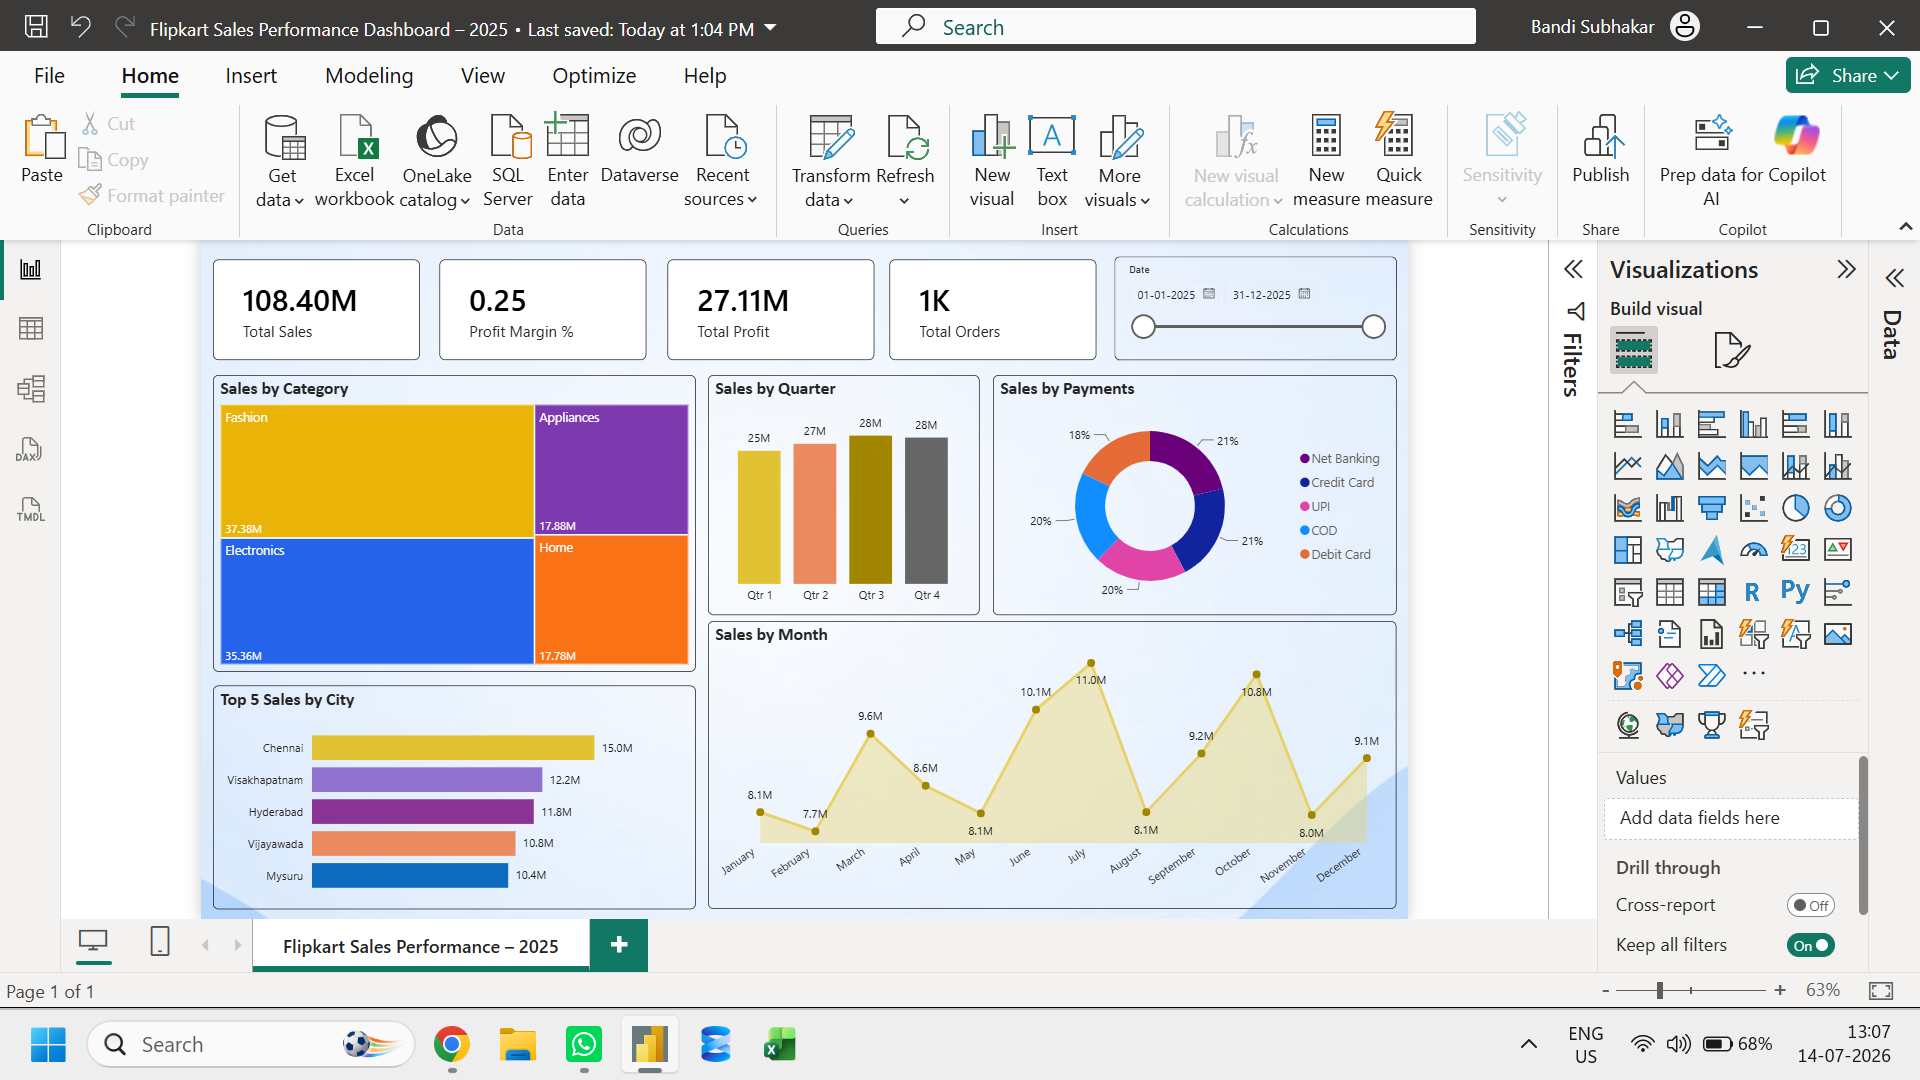

What the dashboard file says about the page in this screenshot:
{"tool":"powerbi","page":{"name":"Flipkart Sales Performance – 2025","canvas":[1280,720],"ordinal":0},"visuals":[{"type":"treemap","title":"Sales by Category","fields":{"Group":["Flipkart_2025_Sales.Category"],"Values":["Date Table.Total Sales"]},"box":[12.7,143.2,512.2,314.9],"z":5},{"type":"barChart","title":"Top 5 Sales by City","fields":{"Category":["Flipkart_2025_Sales.City"],"Y":["Date Table.Total Sales"]},"box":[12.7,472.4,512.2,237],"z":6},{"type":"areaChart","title":"Sales by Month","fields":{"Category":["Date Table.Date.Variation.Date Hierarchy.Month"],"Y":["Sum(Flipkart_2025_Sales.Sales)"]},"box":[537.6,404,730.1,305.4],"z":7},{"type":"donutChart","title":"Sales by Payments","fields":{"Category":["Flipkart_2025_Sales.Payment_Mode"],"Y":["Date Table.Total Sales"]},"box":[839.8,143.2,427.9,254.5],"z":8},{"type":"cardVisual","fields":{"Data":["Date Table.Total Sales"]},"box":[12.7,20.7,219.5,106.6],"z":11},{"type":"columnChart","title":"Sales by Quarter","fields":{"Category":["Date Table.Date.Variation.Date Hierarchy.Quarter"],"Y":["Date Table.Total Sales"]},"box":[537.6,143.2,287.9,254.5],"z":12},{"type":"cardVisual","fields":{"Data":["Date Table.Profit Margin %"]},"box":[252.9,20.7,219.5,106.6],"z":13},{"type":"cardVisual","fields":{"Data":["Date Table.Total Profit"]},"box":[494.7,20.7,219.5,106.6],"z":15},{"type":"cardVisual","fields":{"Data":["Date Table.Total Orders"]},"box":[730.1,20.7,219.5,106.6],"z":16},{"type":"slicer","fields":{"Values":["Date Table.Date"]},"box":[968.7,17.5,299,109.8],"z":17}]}

Visuals, with their boxes on the page's 1280x720 design canvas (x1, y1, x2, y2). These are canvas units, not pixel positions in the 1920x1080 screenshot, which may show the page scaled, cropped or inside an application window:
"Sales by Category" treemap: x1=13 y1=143 x2=525 y2=458
"Top 5 Sales by City" barChart: x1=13 y1=472 x2=525 y2=709
"Sales by Month" areaChart: x1=538 y1=404 x2=1268 y2=709
"Sales by Payments" donutChart: x1=840 y1=143 x2=1268 y2=398
cardVisual - Date Table.Total Sales: x1=13 y1=21 x2=232 y2=127
"Sales by Quarter" columnChart: x1=538 y1=143 x2=826 y2=398
cardVisual - Date Table.Profit Margin %: x1=253 y1=21 x2=472 y2=127
cardVisual - Date Table.Total Profit: x1=495 y1=21 x2=714 y2=127
cardVisual - Date Table.Total Orders: x1=730 y1=21 x2=950 y2=127
slicer - Date Table.Date: x1=969 y1=18 x2=1268 y2=127
